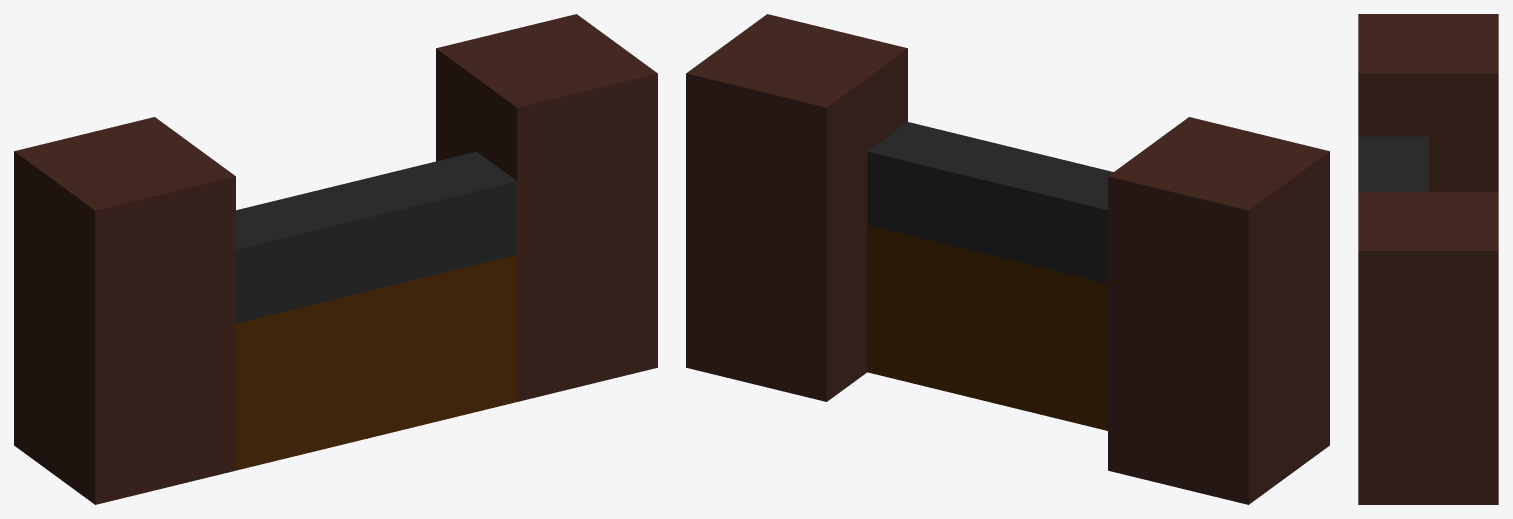
File: one ladder piece.obj
The picture shows the model from 3 angles, left to right: view 1: azimuth 30°, elevation 25°; view 2: azimuth 150°, elevation 25°; view 3: azimuth 270°, elevation 25°; orthographic projection. The views are drawn at different scales.
Size of the model in its own units: 0.8 by 0.4 by 0.2.
1 material, 1 textured.
